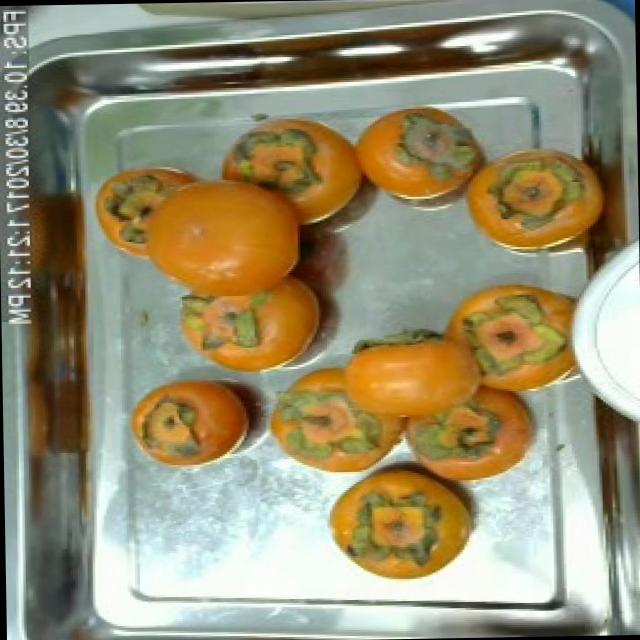Fruit: (78, 153, 276, 306), (426, 267, 599, 414), (448, 130, 624, 270), (315, 453, 488, 588), (339, 99, 502, 228), (118, 368, 268, 479), (256, 384, 412, 486)
